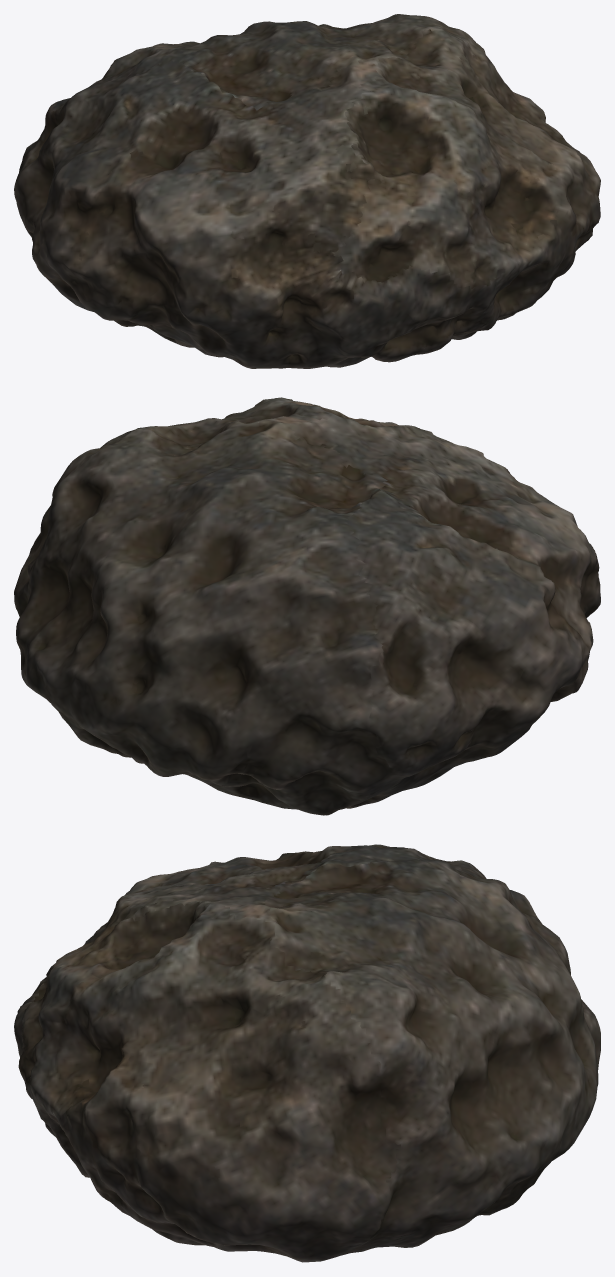
File: asteroid_common_3_lod1.glb
3 views of the same model, one above another, from view 1: azimuth 30°, elevation 25°; view 2: azimuth 150°, elevation 25°; view 3: azimuth 270°, elevation 25° (orthographic). The views are drawn at different scales.
Parts seen in each view (by area): view 1: model; view 2: model; view 3: model.
Part boxes in pixels (x1,y1,x2,y2): model: (14, 14, 600, 368); model: (14, 397, 600, 815); model: (14, 844, 600, 1262).
Bounding box in the file's own units: 1.9 × 0.9778 × 1.7.
Materials: 1 (1 with a texture image).
